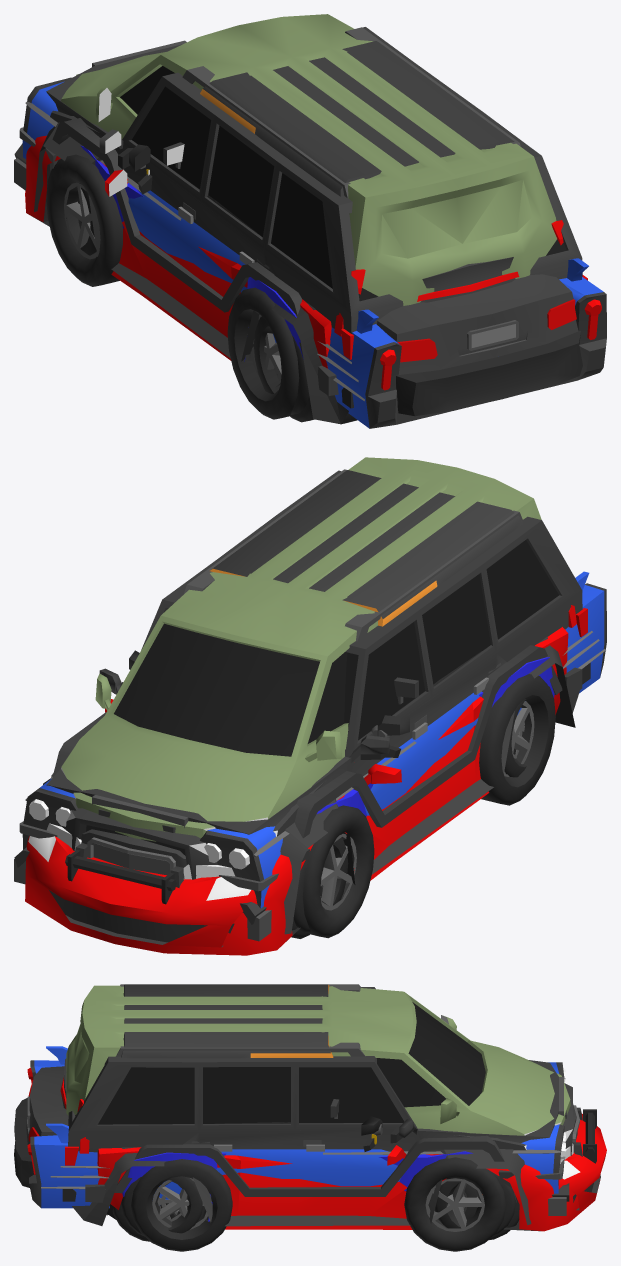
The model's file is SOLARA_Cars.glb.
3 views of the same model, one above another, from view 1: azimuth 30°, elevation 25°; view 2: azimuth 150°, elevation 25°; view 3: azimuth 270°, elevation 25° (orthographic). The views are drawn at different scales.
Visible parts, largest first — view 1: Mula_Paint_8aa16d, Bastion, Cresta, Bastion_Glass_1c1c1c, Patrulla, Marlin_Paint_2e64fe, Patrulla_Paint_2e2e2e, Rossa_Paint_ff0000, Cresta_Wheel_FL_Tire_2e2e2e, Marlin, Cresta_Wheel_RL_Tire_2e2e2e, Solano (+11 smaller); view 2: Mula_Paint_8aa16d, Bastion, Cresta, Rossa_Paint_ff0000, Mula_Glass_1c1c1c, Bastion_Glass_1c1c1c, Marlin_Paint_2e64fe, Cresta_Wheel_RL_Tire_2e2e2e, Marlin, Cresta_Wheel_FL_Tire_2e2e2e, Solano, Rossa (+13 smaller); view 3: Mula_Paint_8aa16d, Bastion, Cresta, Bastion_Glass_1c1c1c, Rossa_Paint_ff0000, Marlin_Paint_2e64fe, Mula_Glass_1c1c1c, Cresta_Wheel_FR_Tire_2e2e2e, Cresta_Wheel_RR_Tire_2e2e2e, Patrulla, Patrulla_Paint_2e2e2e, Marlin (+9 smaller).
Boxes of the visible parts, <box> form: Mula_Paint_8aa16d: <box>61,14,556,305</box>; Bastion: <box>41,27,582,424</box>; Cresta: <box>45,41,521,395</box>; Bastion_Glass_1c1c1c: <box>132,86,566,301</box>; Patrulla: <box>377,274,578,406</box>; Marlin_Paint_2e64fe: <box>22,81,603,428</box>; Patrulla_Paint_2e2e2e: <box>118,148,582,416</box>; Rossa_Paint_ff0000: <box>25,135,331,368</box>; Cresta_Wheel_FL_Tire_2e2e2e: <box>46,154,122,286</box>; Marlin: <box>14,77,606,428</box>; Cresta_Wheel_RL_Tire_2e2e2e: <box>227,287,299,419</box>; Solano: <box>50,110,515,302</box>; Mula_Paint_8aa16d: <box>61,457,541,841</box>; Bastion: <box>43,469,582,934</box>; Cresta: <box>53,470,582,871</box>; Rossa_Paint_ff0000: <box>25,627,568,955</box>; Mula_Glass_1c1c1c: <box>114,623,347,756</box>; Bastion_Glass_1c1c1c: <box>167,540,558,740</box>; Marlin_Paint_2e64fe: <box>40,571,604,908</box>; Cresta_Wheel_RL_Tire_2e2e2e: <box>479,674,555,805</box>; Marlin: <box>14,583,606,941</box>; Cresta_Wheel_FL_Tire_2e2e2e: <box>302,805,374,938</box>; Solano: <box>51,663,500,879</box>; Rossa: <box>49,890,234,947</box>; Mula_Paint_8aa16d: <box>66,985,570,1135</box>; Bastion: <box>68,984,582,1226</box>; Cresta: <box>85,984,513,1202</box>; Bastion_Glass_1c1c1c: <box>75,1067,404,1124</box>; Rossa_Paint_ff0000: <box>97,1113,606,1231</box>; Marlin_Paint_2e64fe: <box>34,1046,559,1208</box>; Mula_Glass_1c1c1c: <box>376,1002,485,1107</box>; Cresta_Wheel_FR_Tire_2e2e2e: <box>404,1157,506,1251</box>; Cresta_Wheel_RR_Tire_2e2e2e: <box>131,1159,232,1251</box>; Patrulla: <box>26,1066,577,1144</box>; Patrulla_Paint_2e2e2e: <box>14,1098,596,1187</box>; Marlin: <box>29,1060,569,1215</box>.
Bounding box in the file's own units: 2.5 × 2.07 × 5.82.
